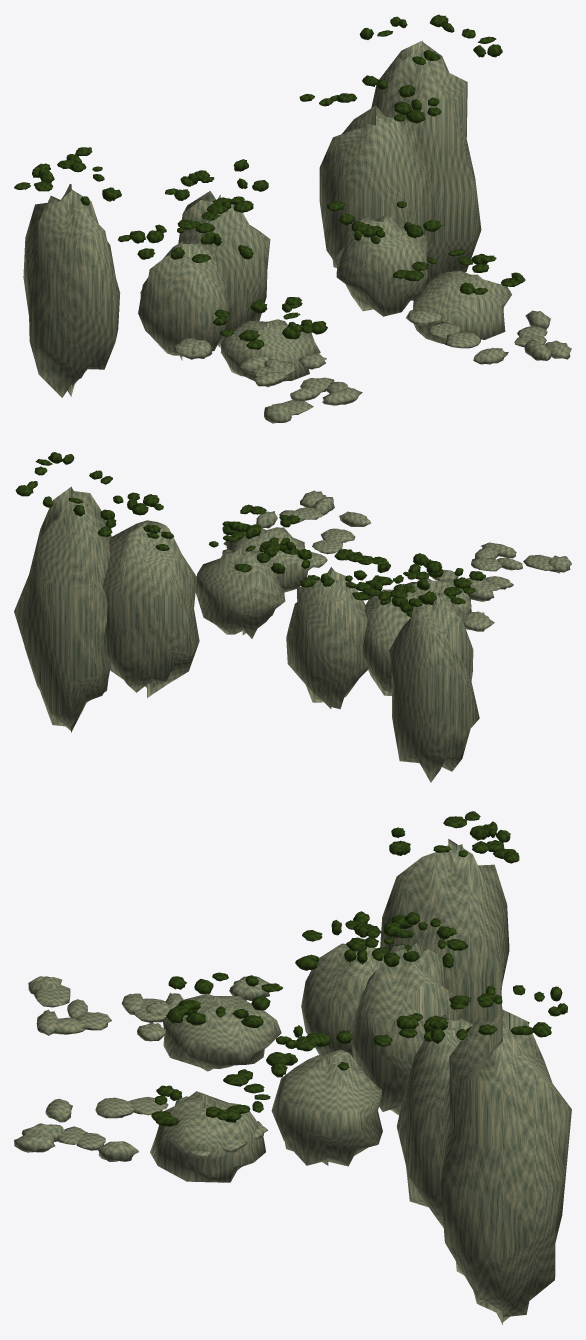
Rendered from SM_DBA_Sanctuary_Terraces.fbx.
The picture shows the model from 3 angles, top to bottom: view 1: azimuth 30°, elevation 25°; view 2: azimuth 150°, elevation 25°; view 3: azimuth 270°, elevation 25°; orthographic projection. The views are drawn at different scales.
Visible parts, largest first — view 1: SM_DBA_Sanctuary_Terraces; view 2: SM_DBA_Sanctuary_Terraces; view 3: SM_DBA_Sanctuary_Terraces.
Part boxes in pixels (left/top/right/bottom): SM_DBA_Sanctuary_Terraces: left=14, top=14, right=571, bottom=423; SM_DBA_Sanctuary_Terraces: left=14, top=452, right=571, bottom=782; SM_DBA_Sanctuary_Terraces: left=14, top=811, right=571, bottom=1324.
Size of the model in its own units: 5863 by 5113 by 3280.
